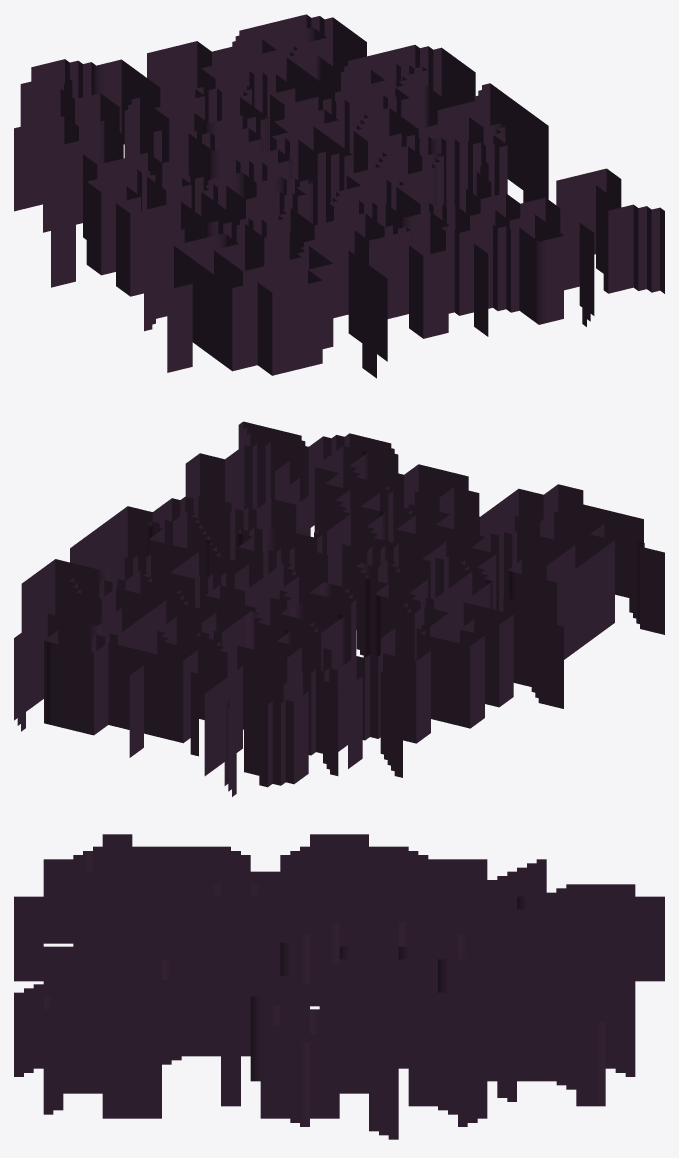
The model's file is WhiteboxLevel2.25 walls.obj.
3 views of the same model, one above another, from view 1: azimuth 30°, elevation 25°; view 2: azimuth 150°, elevation 25°; view 3: azimuth 270°, elevation 25° (orthographic). The views are drawn at different scales.
Parts seen in each view (by area): view 1: Walls; view 2: Walls; view 3: Walls.
Part boxes in pixels (x1,y1,x2,y2): Walls: [14, 14, 664, 378]; Walls: [14, 421, 664, 796]; Walls: [14, 834, 664, 1139].
Size of the model in its own units: 11.43 by 2 by 13.97.
